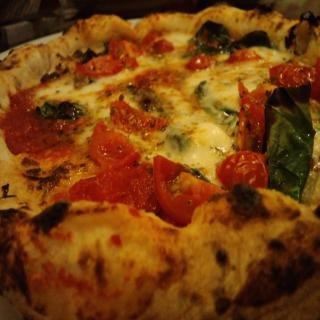tomato: (152, 162, 208, 216)
